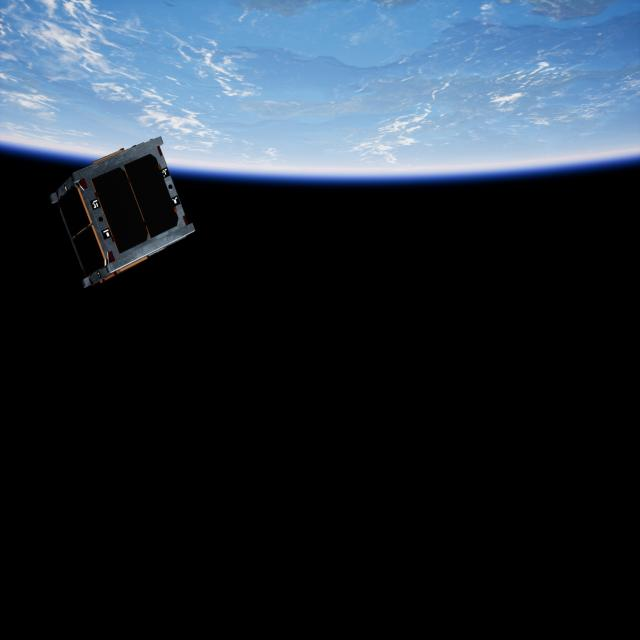satellite: (48, 136, 200, 294)
